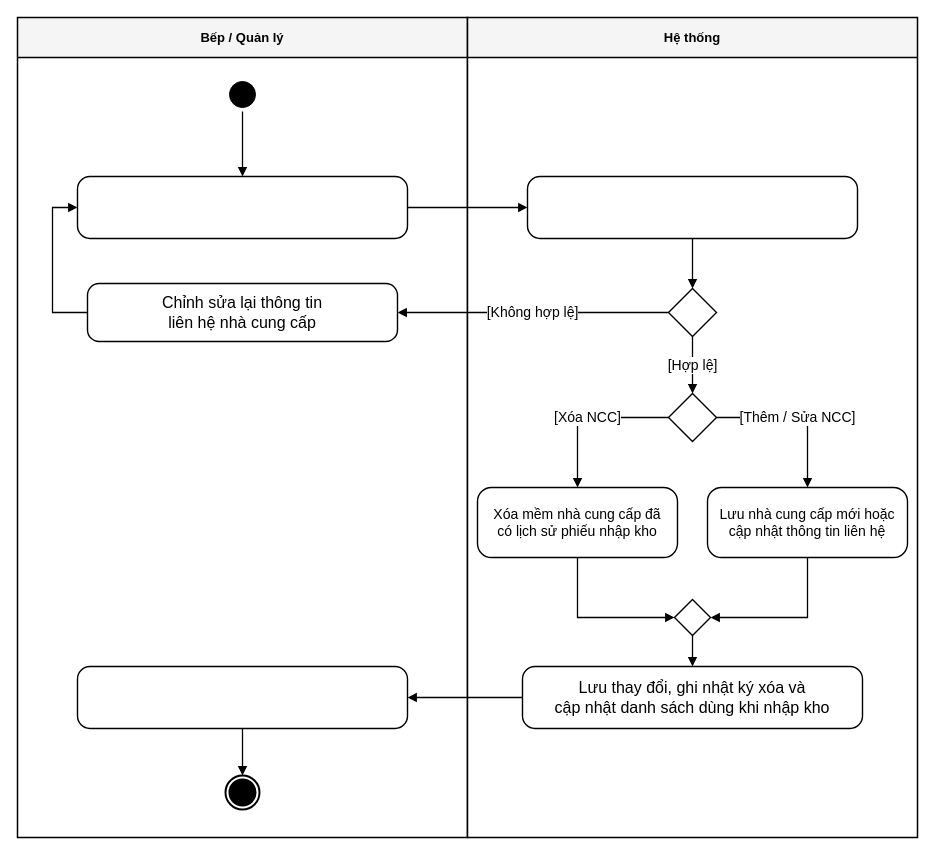
Image size: 936x856. Some labels were removed from this diagram. The shapes that lost their labels are listed below. From the top down, each one's centre as x and y in pixels, then its label:
At point (242, 207): "Tìm nhà cung cấp, xem lịch sử hoặc chọn thêm, sửa, xóa".
At point (692, 207): "Kiểm tra thông tin liên hệ và điều kiện lịch sử nhập hàng".
At point (242, 697): "Xem thông tin và lịch sử nhập của nhà cung cấp".
